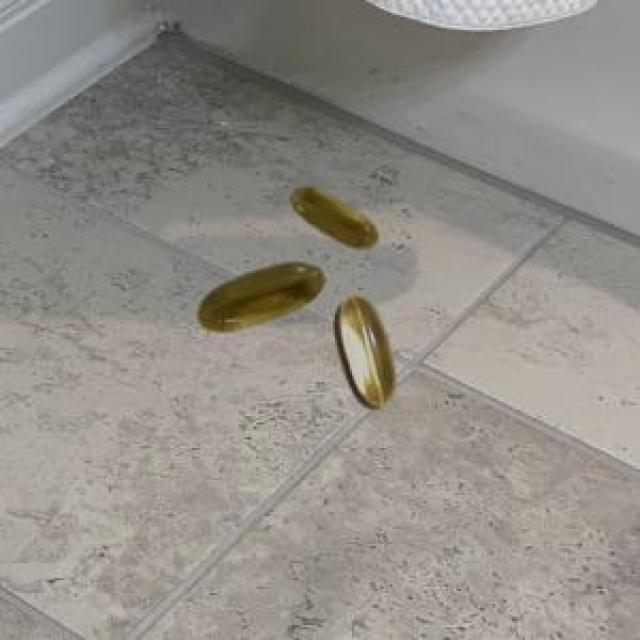Fish_Oil: (188, 258, 334, 344), (331, 278, 404, 422), (279, 177, 392, 258)
